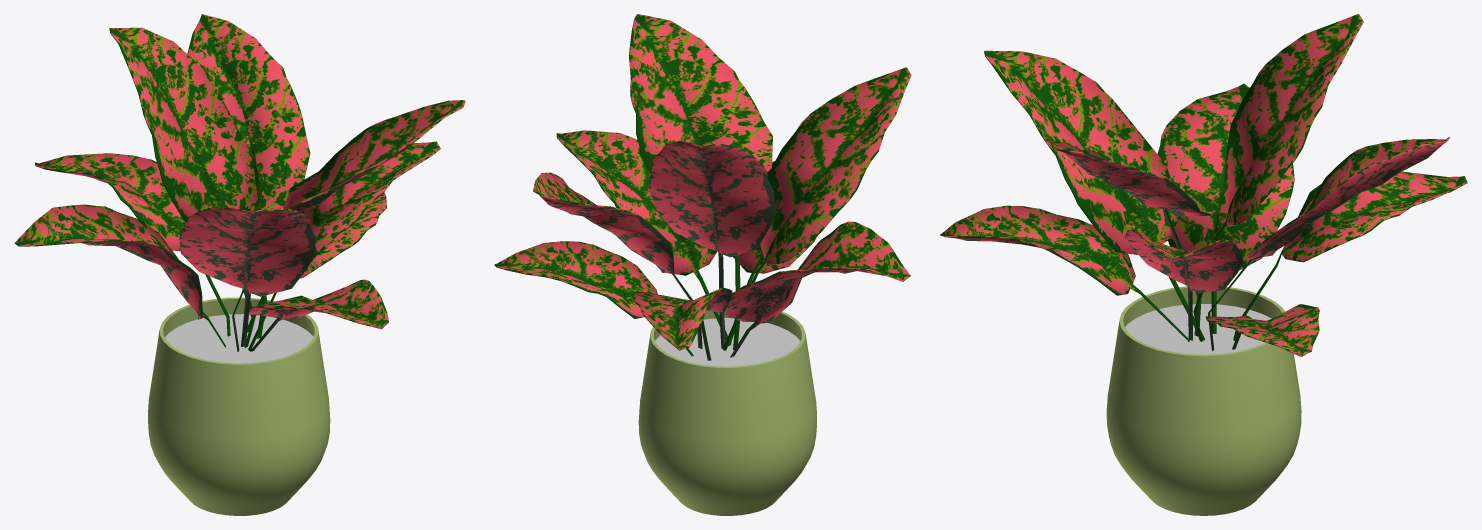
3 views of the same model, side by side, from view 1: azimuth 30°, elevation 25°; view 2: azimuth 150°, elevation 25°; view 3: azimuth 270°, elevation 25° (orthographic). The views are drawn at different scales.
Parts seen in each view (by area): view 1: aglaonema leaf.027_0, pot fat tall.002_2, pot soil.006_1; view 2: aglaonema leaf.027_0, pot fat tall.002_2, pot soil.006_1; view 3: aglaonema leaf.027_0, pot fat tall.002_2, pot soil.006_1.
Boxes of the visible parts, <box> form: aglaonema leaf.027_0: <box>14,14,465,351</box>; pot fat tall.002_2: <box>148,297,330,515</box>; pot soil.006_1: <box>165,314,313,363</box>; aglaonema leaf.027_0: <box>494,14,911,360</box>; pot fat tall.002_2: <box>638,306,816,515</box>; pot soil.006_1: <box>655,318,800,366</box>; aglaonema leaf.027_0: <box>940,14,1467,356</box>; pot fat tall.002_2: <box>1106,286,1301,515</box>; pot soil.006_1: <box>1125,304,1271,354</box>.
Bounding box in the file's own units: 0.5996 × 0.6156 × 0.6541.
